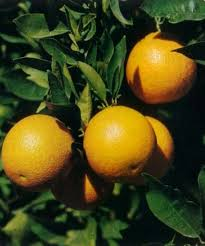orange: (2, 115, 78, 189), (84, 106, 156, 179), (128, 32, 199, 101)
